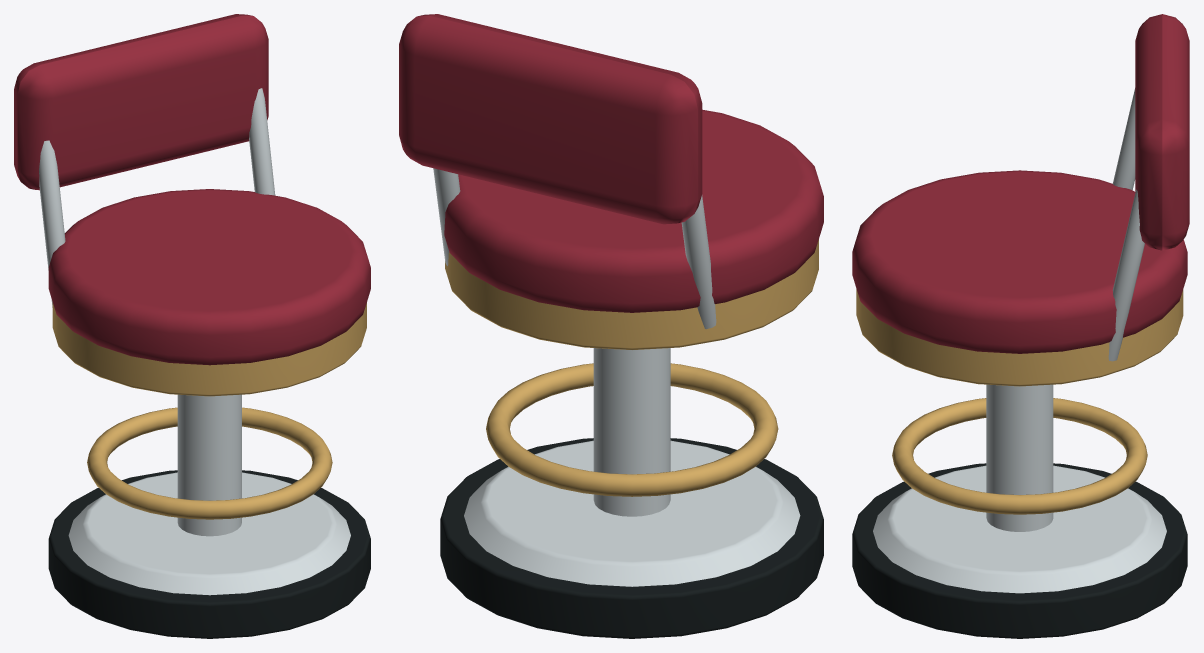
File: casino_stool.glb
3 views of the same model, side by side, from view 1: azimuth 30°, elevation 25°; view 2: azimuth 150°, elevation 25°; view 3: azimuth 270°, elevation 25° (orthographic). The views are drawn at different scales.
Visible parts, largest first — view 1: Velvet, Chrome, Brass, Dark; view 2: Velvet, Chrome, Brass, Dark; view 3: Velvet, Chrome, Brass, Dark.
Boxes of the visible parts, x1,y1,x2,y2 form: Velvet: (14, 14, 370, 365); Chrome: (39, 88, 350, 595); Brass: (52, 303, 366, 519); Dark: (48, 470, 370, 638); Velvet: (399, 14, 823, 312); Chrome: (433, 168, 800, 586); Brass: (445, 239, 818, 496); Dark: (440, 438, 823, 638); Velvet: (852, 14, 1189, 353); Chrome: (873, 88, 1166, 593); Brass: (856, 289, 1183, 514); Dark: (852, 463, 1187, 638).
Bounding box in the file's own units: 0.8 × 1.32 × 0.805.
